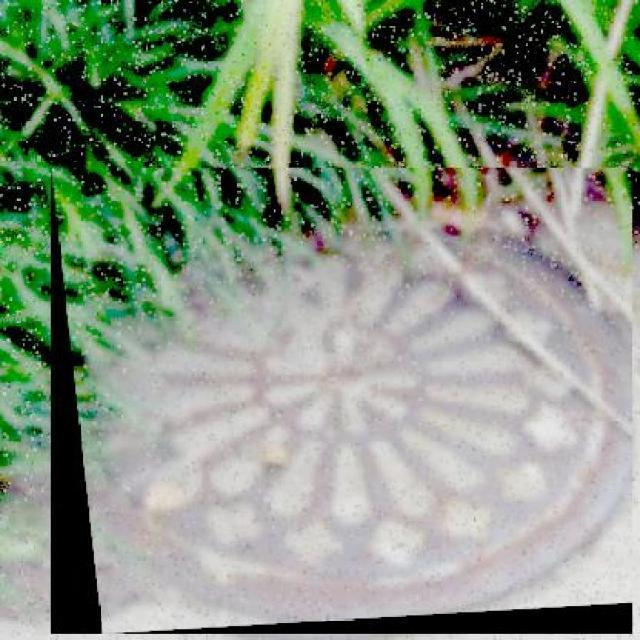Manhole: (50, 168, 632, 634)
